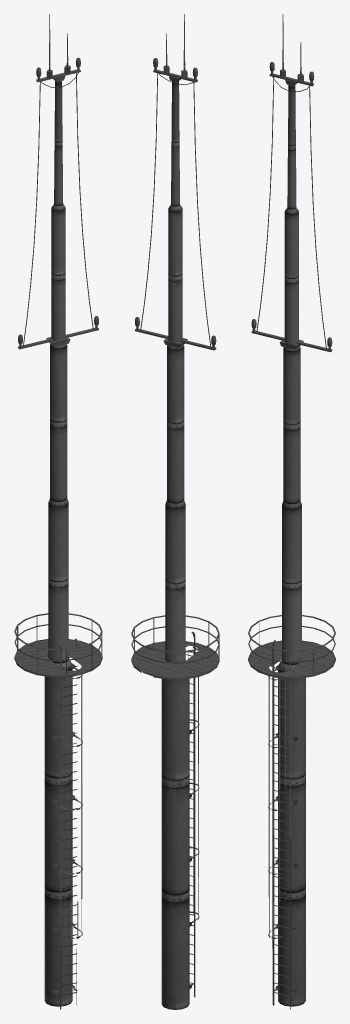
Rendered from XinHaoTa.glb.
3 renders of one model, left to right at view 1: azimuth 30°, elevation 25°; view 2: azimuth 150°, elevation 25°; view 3: azimuth 330°, elevation 25°, orthographic.
Parts seen in each view (by area): view 1: cd001; view 2: cd001; view 3: cd001.
Part boxes in pixels (x1,y1,x2,y2): cd001: (14, 14, 102, 1009); cd001: (131, 14, 219, 1009); cd001: (248, 14, 335, 1009).
Bounding box in the file's own units: 124 × 1455 × 118.
Materials: 1 (1 with a texture image).
